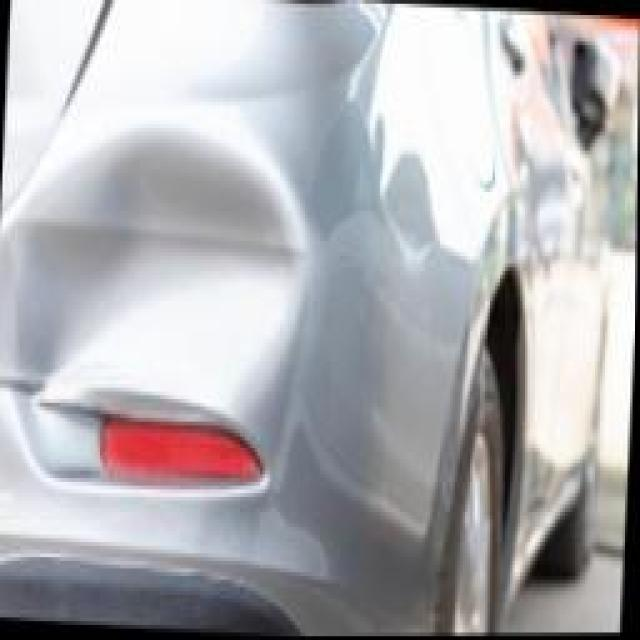Bumper: (0, 73, 330, 493)
